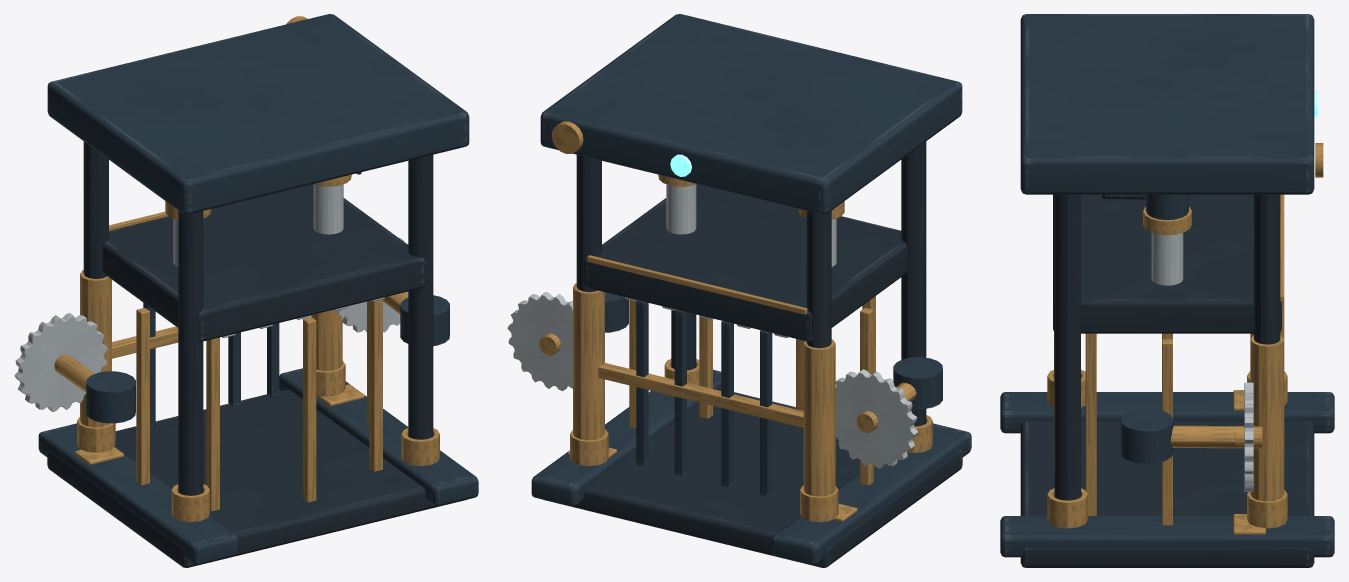
Rendered from compound_executor.glb.
3 views of the same model, side by side, from view 1: azimuth 30°, elevation 25°; view 2: azimuth 150°, elevation 25°; view 3: azimuth 270°, elevation 25° (orthographic). The views are drawn at different scales.
Parts seen in each view (by area): view 1: compound_executor__crown, compound_executor__platen, compound_executor__ground_foundation, compound_executor__foot_neg1, compound_executor__column_2, compound_executor__column_3, compound_executor__execution_saw_neg1, compound_executor__foot_1, compound_executor__column_0, compound_executor__cage_bar_2, compound_executor__cage_bar_4, compound_executor__arm_motor_neg1 (+16 smaller); view 2: compound_executor__crown, compound_executor__platen, compound_executor__ground_foundation, compound_executor__foot_neg1, compound_executor__execution_saw_neg1, compound_executor__column_2, compound_executor__foot_1, compound_executor__gate_hinge_neg1, compound_executor__gate_hinge_1, compound_executor__execution_saw_1, compound_executor__column_0, compound_executor__column_1 (+17 smaller); view 3: compound_executor__crown, compound_executor__ground_foundation, compound_executor__platen, compound_executor__foot_1, compound_executor__column_3, compound_executor__foot_neg1, compound_executor__gate_hinge_1, compound_executor__column_1, compound_executor__arm_motor_1, compound_executor__cage_bar_1, compound_executor__telescopic_stage_1, compound_executor__saw_arm_1 (+8 smaller).
Boxes of the visible parts, <box> form: compound_executor__crown: <box>47,14,469,214</box>; compound_executor__platen: <box>102,184,425,341</box>; compound_executor__ground_foundation: <box>47,389,466,567</box>; compound_executor__foot_neg1: <box>38,423,237,565</box>; compound_executor__column_2: <box>178,211,203,495</box>; compound_executor__column_3: <box>408,155,433,439</box>; compound_executor__execution_saw_neg1: <box>14,313,107,411</box>; compound_executor__foot_1: <box>279,368,478,506</box>; compound_executor__column_0: <box>83,141,108,278</box>; compound_executor__cage_bar_2: <box>303,317,316,502</box>; compound_executor__cage_bar_4: <box>136,308,149,485</box>; compound_executor__arm_motor_neg1: <box>86,371,135,423</box>; compound_executor__crown: <box>540,14,962,214</box>; compound_executor__platen: <box>584,184,907,341</box>; compound_executor__ground_foundation: <box>543,389,962,567</box>; compound_executor__foot_neg1: <box>772,423,971,565</box>; compound_executor__execution_saw_neg1: <box>835,369,918,468</box>; compound_executor__column_2: <box>901,141,926,426</box>; compound_executor__foot_1: <box>531,369,721,506</box>; compound_executor__gate_hinge_neg1: <box>803,339,835,496</box>; compound_executor__gate_hinge_1: <box>573,283,604,440</box>; compound_executor__execution_saw_1: <box>507,292,572,391</box>; compound_executor__column_0: <box>806,211,831,348</box>; compound_executor__column_1: <box>576,155,601,291</box>; compound_executor__crown: <box>1020,14,1314,194</box>; compound_executor__ground_foundation: <box>1020,421,1314,567</box>; compound_executor__platen: <box>1053,194,1281,333</box>; compound_executor__foot_1: <box>1000,516,1334,557</box>; compound_executor__column_3: <box>1054,194,1080,500</box>; compound_executor__foot_neg1: <box>1000,392,1334,433</box>; compound_executor__gate_hinge_1: <box>1250,335,1284,501</box>; compound_executor__column_1: <box>1254,194,1280,344</box>; compound_executor__arm_motor_1: <box>1120,408,1173,463</box>; compound_executor__cage_bar_1: <box>1085,333,1096,515</box>; compound_executor__telescopic_stage_1: <box>1151,233,1183,285</box>; compound_executor__saw_arm_1: <box>1170,425,1244,448</box>.
Size of the model in its own units: 2.44 by 2.22 by 1.64.
Materials: 2 (2 with a texture image).
